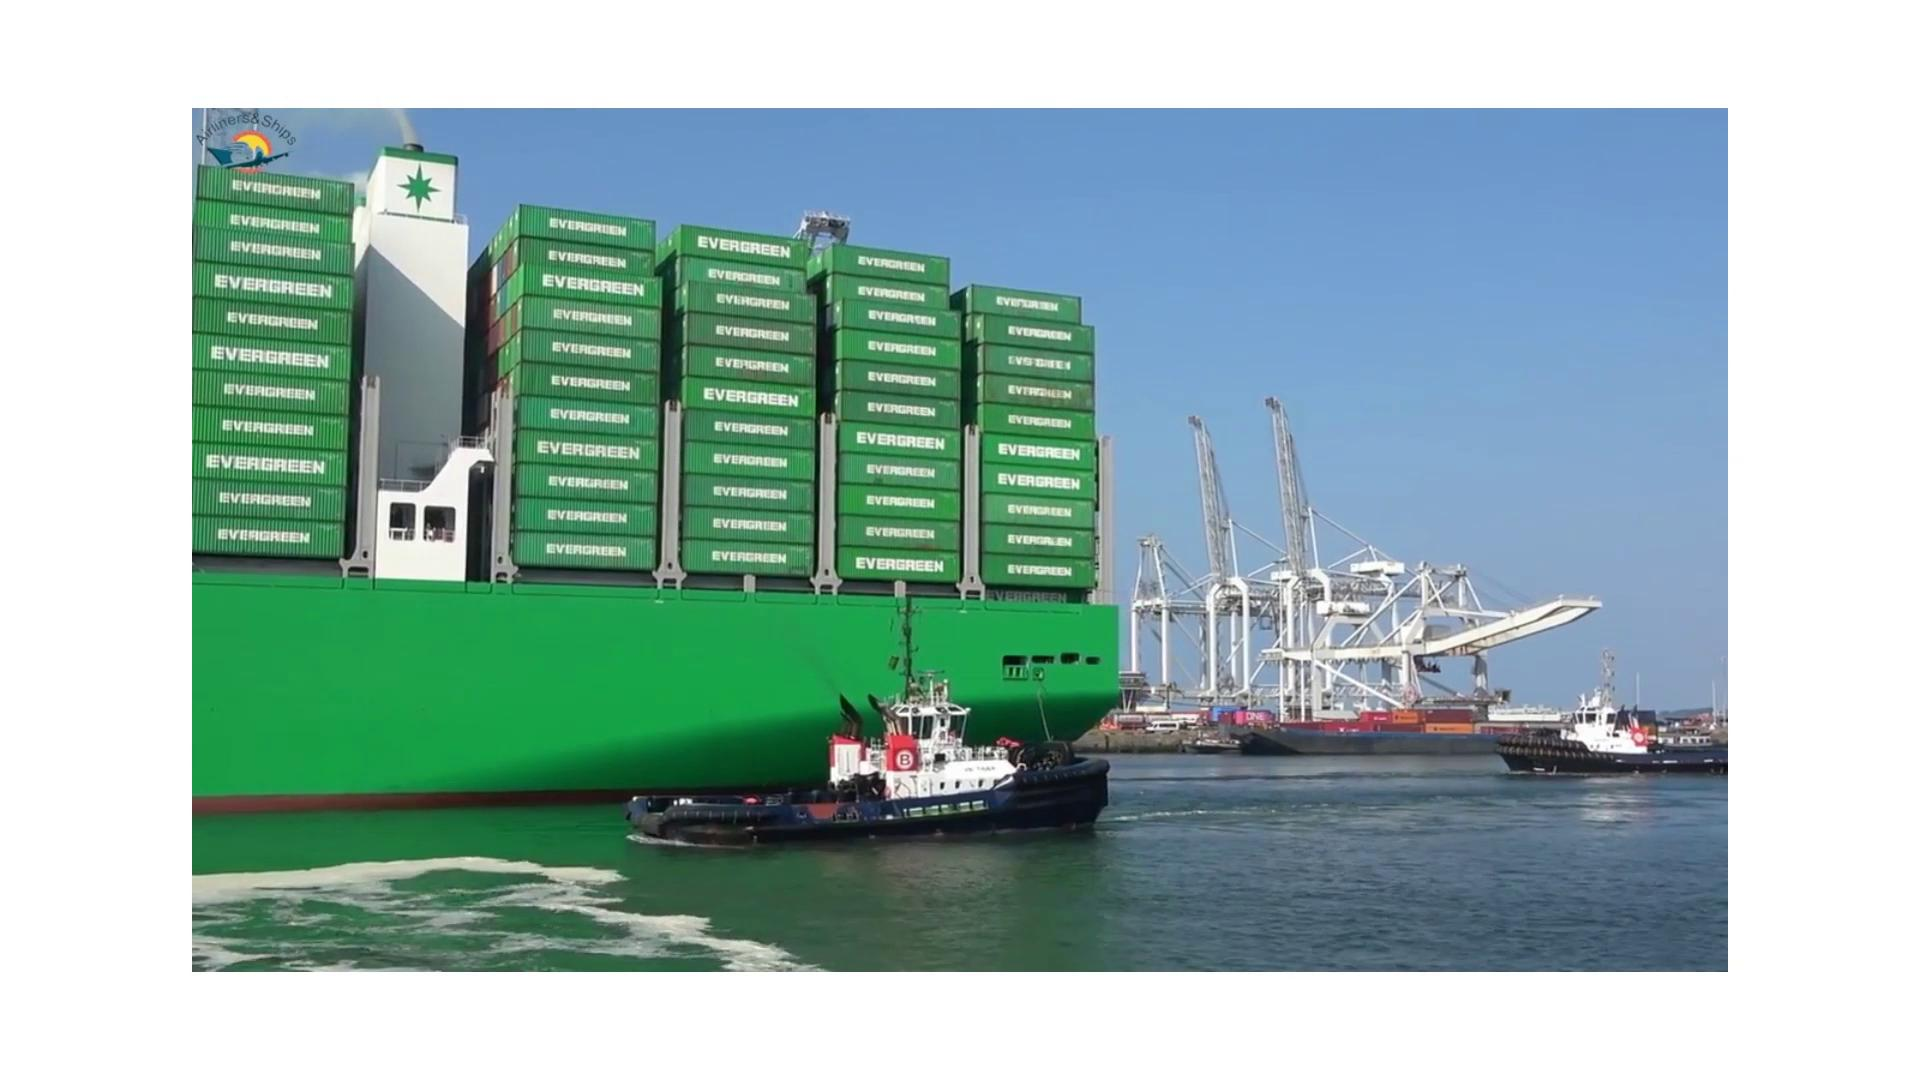OCR: (206, 443, 324, 493)
